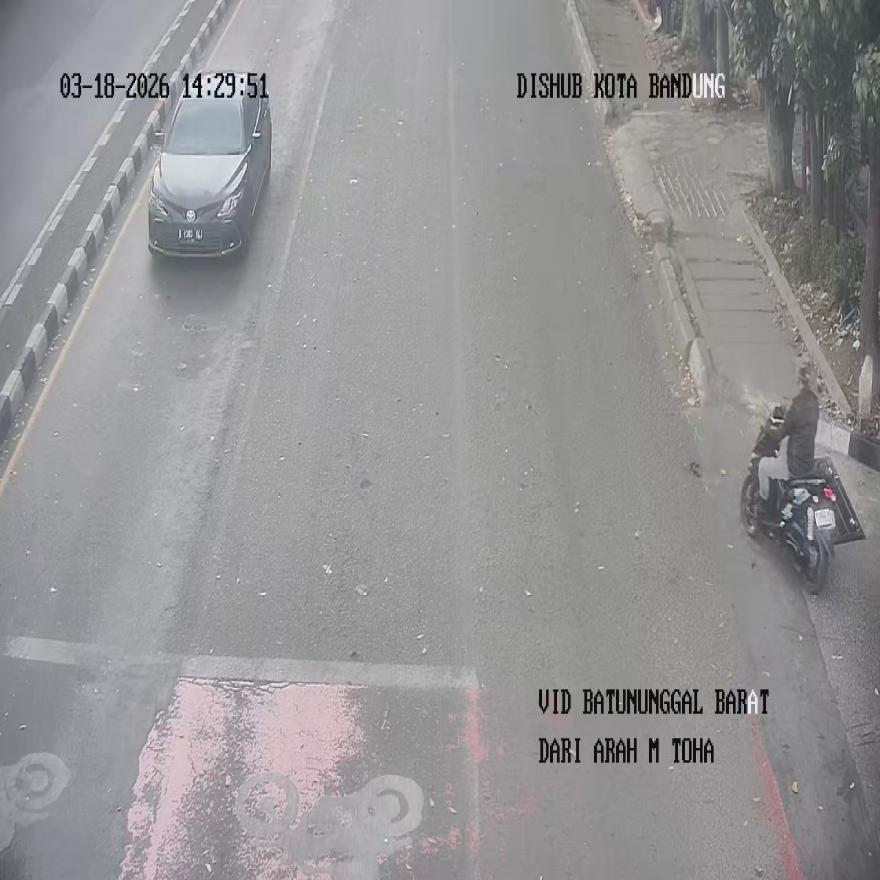Motor: (146, 70, 272, 259)
Truk: (740, 407, 866, 593)
